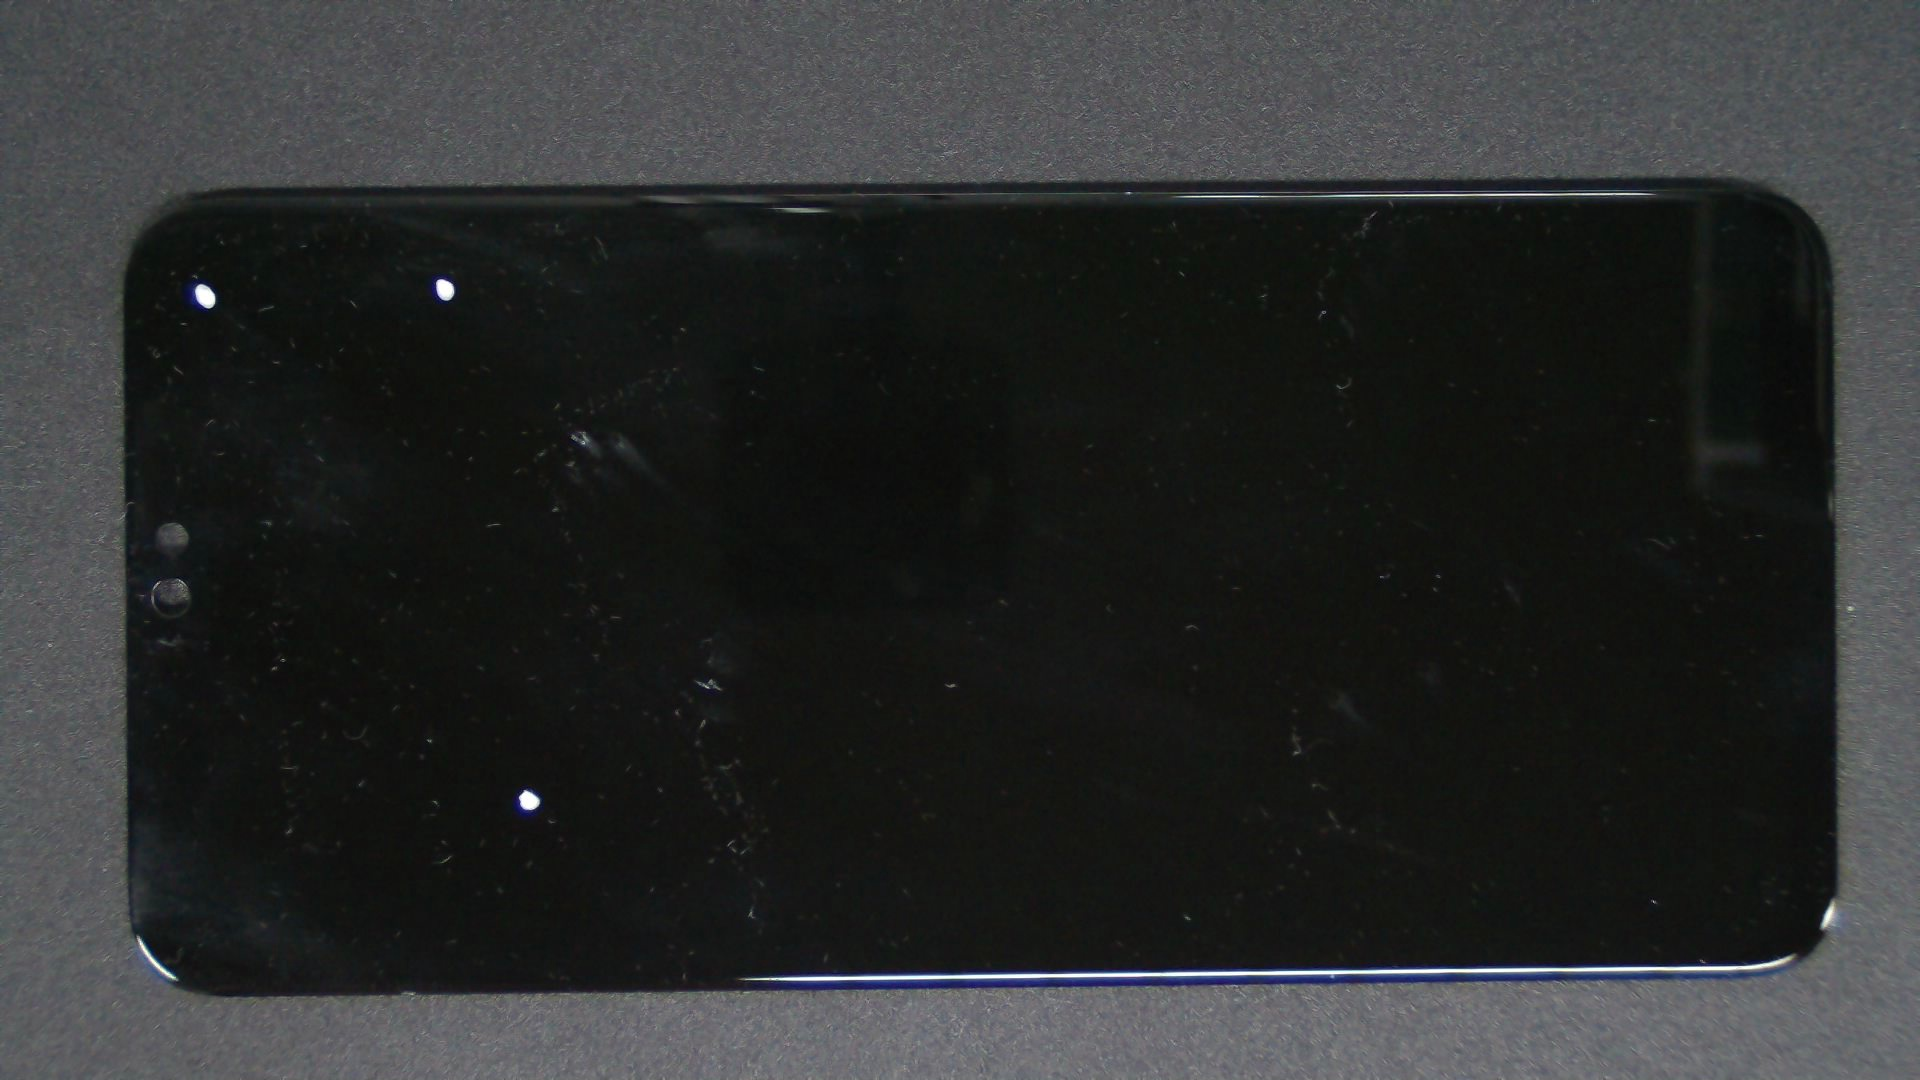oil: (262, 393, 787, 1080), (293, 214, 876, 644), (219, 138, 655, 418), (100, 141, 298, 423)
